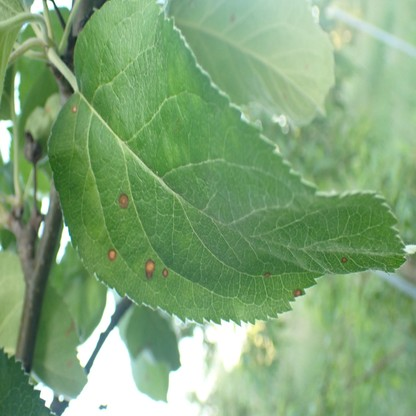frogeye_leaf_spot: (145, 258, 155, 281), (119, 193, 129, 208), (107, 248, 117, 261), (294, 288, 303, 298), (341, 255, 349, 262), (163, 268, 169, 277), (71, 105, 77, 113), (264, 271, 271, 276)
